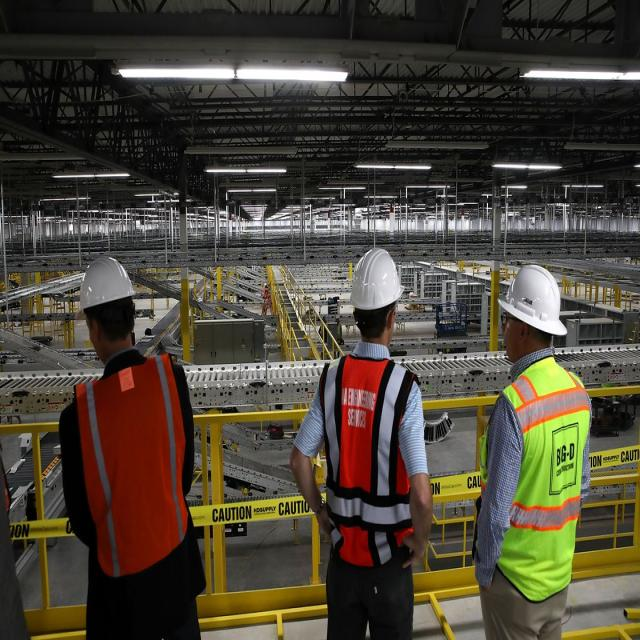Reflective-Jacket: (63, 349, 196, 587), (477, 357, 594, 599), (309, 346, 426, 564)
Safety-Helmet: (498, 260, 569, 338), (73, 250, 138, 316), (346, 242, 404, 311)
